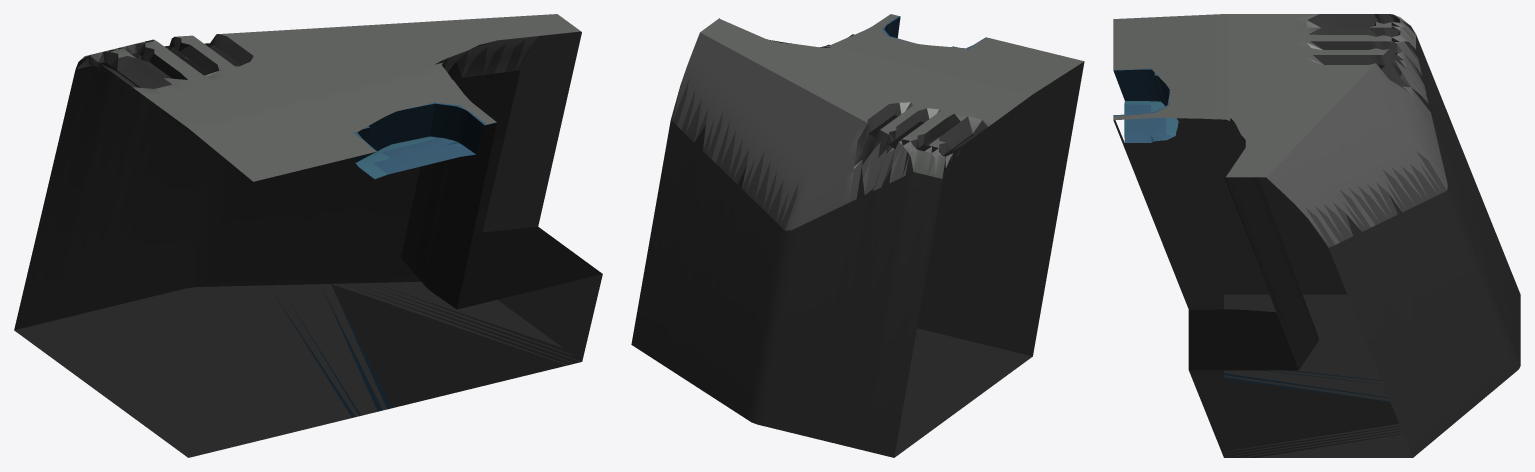
The model's file is fleet_walker_9.glb.
The picture shows the model from 3 angles, left to right: view 1: azimuth 30°, elevation 25°; view 2: azimuth 150°, elevation 25°; view 3: azimuth 270°, elevation 25°; orthographic projection. The views are drawn at different scales.
Parts seen in each view (by area): view 1: fleet_walker_9; view 2: fleet_walker_9; view 3: fleet_walker_9.
Boxes of the visible parts, x1,y1,x2,y2 form: fleet_walker_9: (14, 14, 602, 457); fleet_walker_9: (631, 14, 1084, 457); fleet_walker_9: (1113, 14, 1520, 457).
Bounding box in the file's own units: 24 × 19.2 × 25.26.
